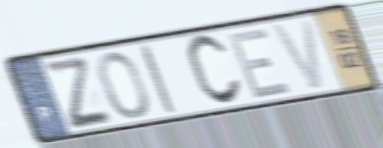C: (184, 32, 246, 109)
E: (225, 25, 295, 102)
I: (137, 41, 180, 118)
O: (96, 50, 151, 121)
V: (268, 16, 327, 93)
Z: (40, 55, 115, 132)
